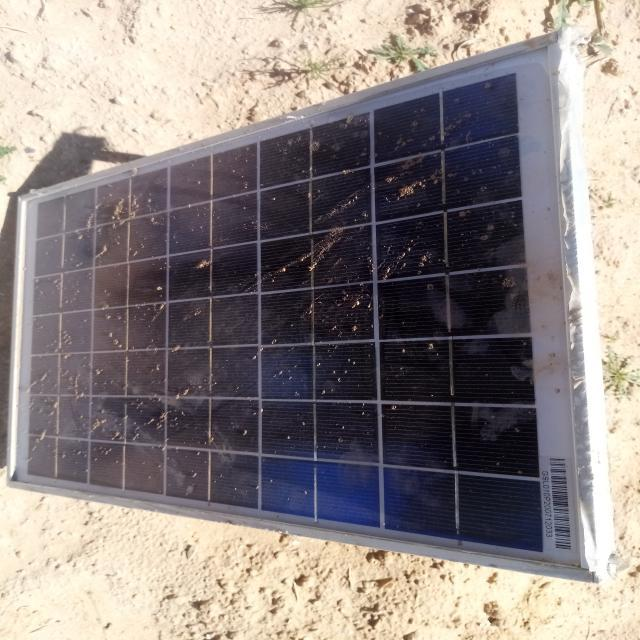faulty: (8, 32, 585, 577)
